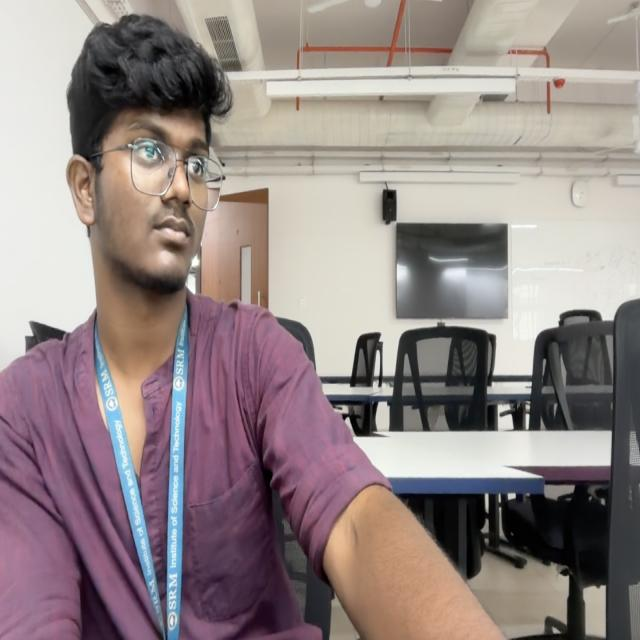ravindra: (66, 21, 226, 294)
